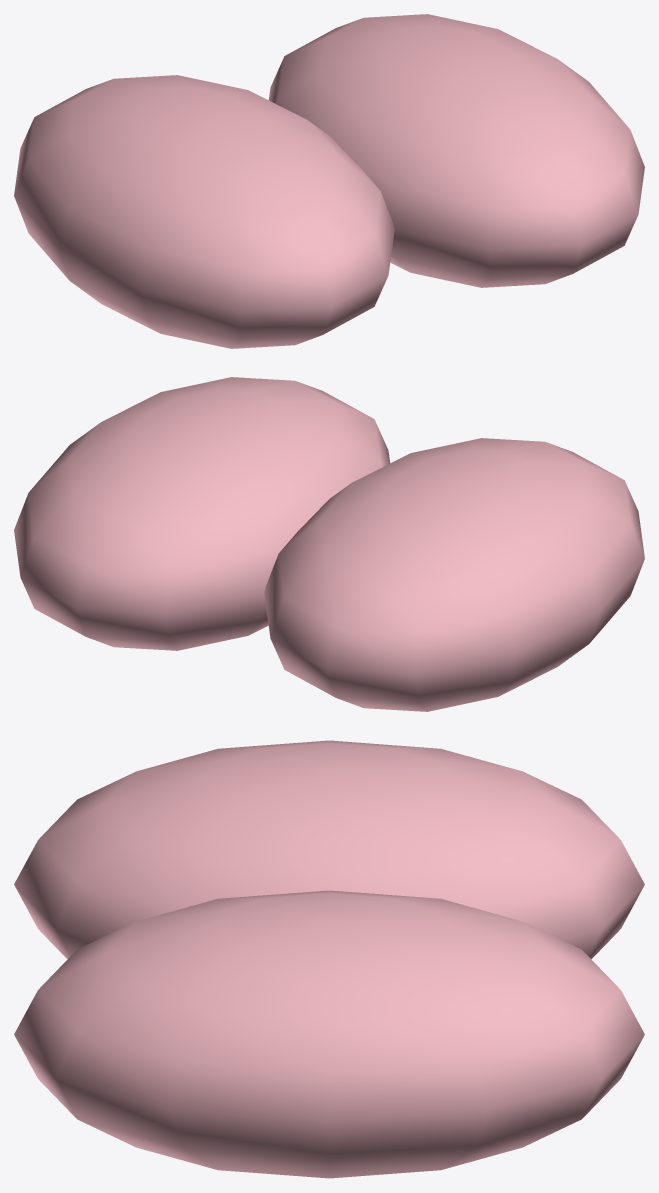
File: footwear-chibi-01.glb
3 views of the same model, one above another, from view 1: azimuth 30°, elevation 25°; view 2: azimuth 150°, elevation 25°; view 3: azimuth 270°, elevation 25° (orthographic). The views are drawn at different scales.
Visible parts, largest first — view 1: part_0, part_1; view 2: part_0, part_1; view 3: part_1, part_0.
Part boxes in pixels (box(x1,y1,x2,y2)): part_0: box(14, 75, 394, 348); part_1: box(268, 14, 644, 287); part_0: box(264, 438, 644, 711); part_1: box(14, 377, 390, 650); part_1: box(14, 890, 644, 1178); part_0: box(14, 740, 644, 959).
Size of the model in its own units: 0.78 by 0.26 by 0.64.
